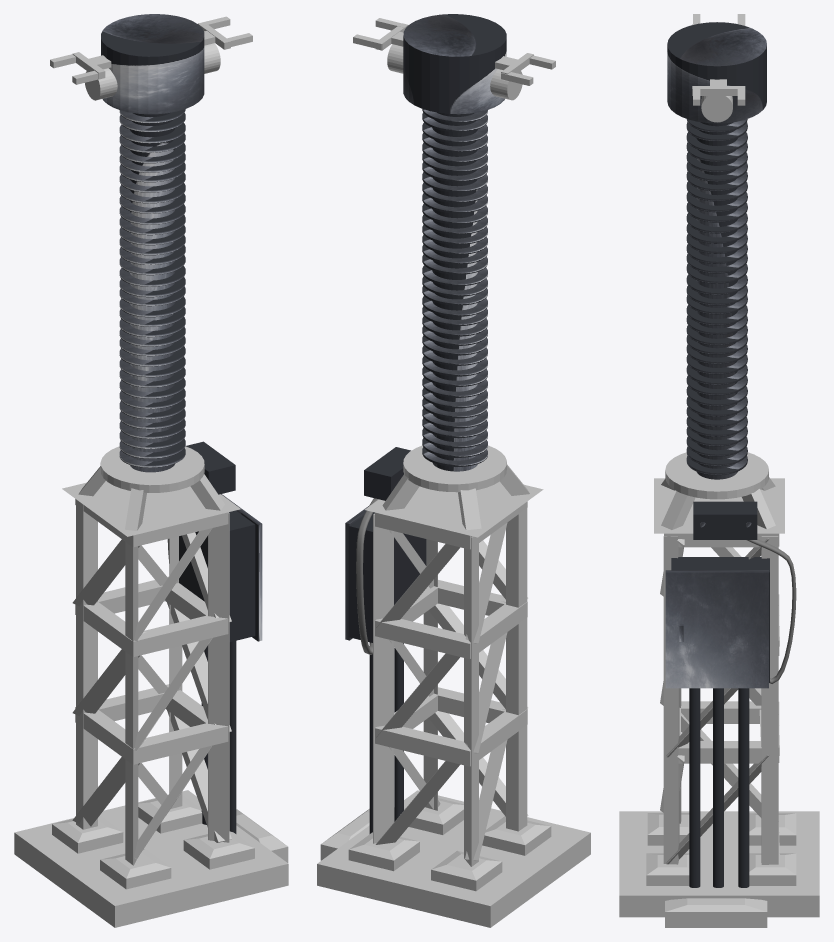
The model's file is Modelo5_115.fbx.
The picture shows the model from 3 angles, left to right: view 1: azimuth 30°, elevation 25°; view 2: azimuth 150°, elevation 25°; view 3: azimuth 270°, elevation 25°; orthographic projection.
Visible parts, largest first — view 1: Cube.041, Cubo.001; view 2: Cube.041, Curva Bézier, Cubo.001; view 3: Cube.041, Cubo.001, Curva Bézier.
Boxes of the visible parts, x1=… form: Cube.041: x1=14, y1=14, x2=288, y2=927; Cubo.001: x1=221, y1=494, x2=262, y2=641; Cube.041: x1=317, y1=14, x2=590, y2=927; Curva Bézier: x1=356, y1=498, x2=378, y2=654; Cubo.001: x1=345, y1=506, x2=368, y2=640; Cube.041: x1=619, y1=14, x2=819, y2=927; Cubo.001: x1=665, y1=570, x2=768, y2=688; Curva Bézier: x1=746, y1=539, x2=796, y2=683.
Size of the model in its own units: 149 by 600 by 131.
